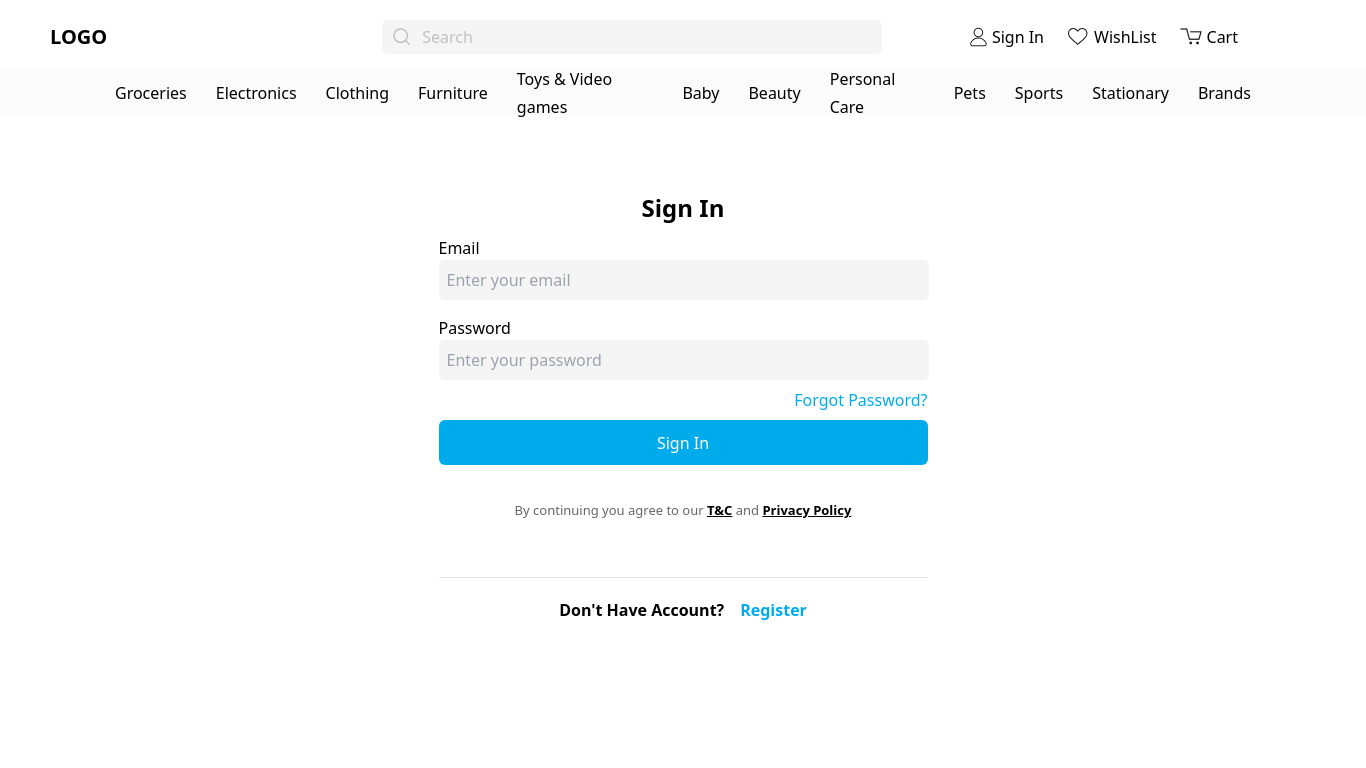
Authentication › should display error message when email format is invalid
Type "invalidemail" into the field with id "email". click: point(684, 280)
box: [439,260,929,300]
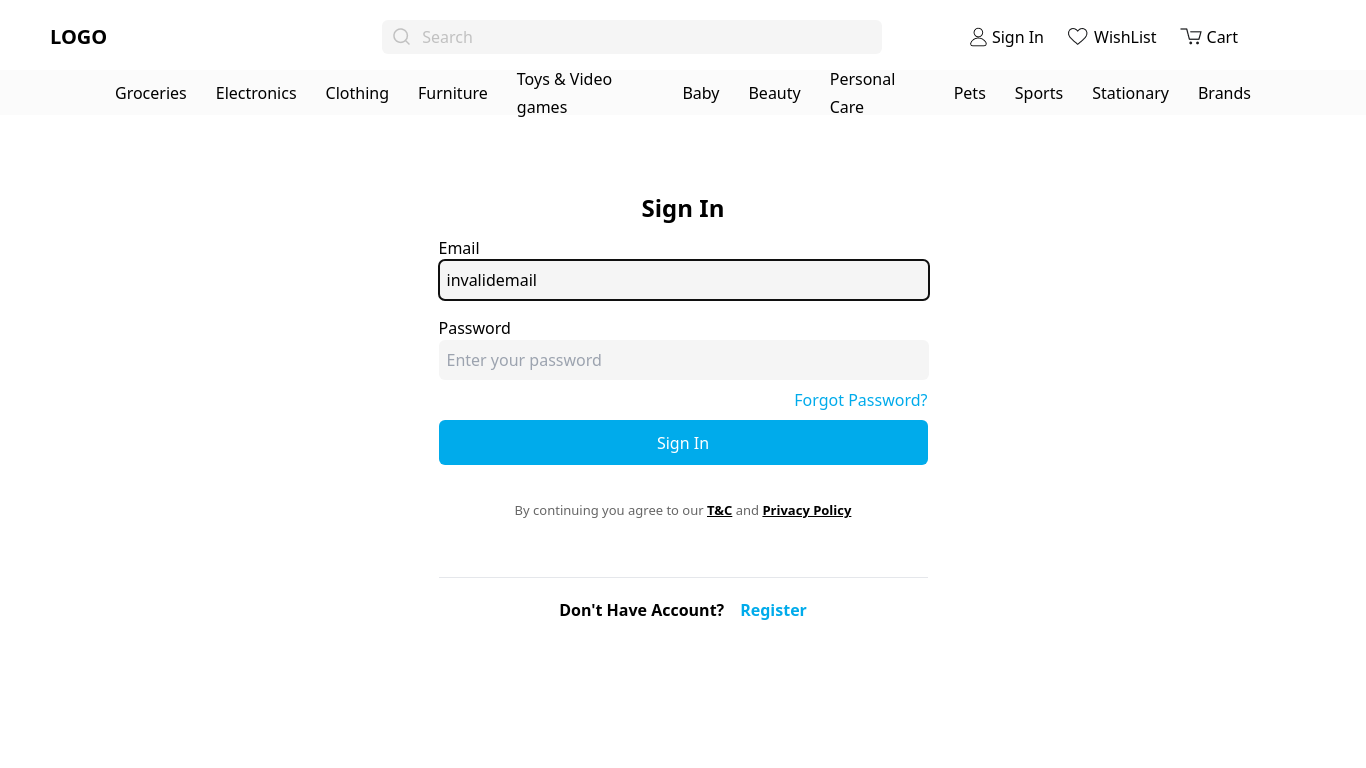
Type "password123" into the password field labelled "Password". click: point(684, 360)
box: [439,340,929,380]
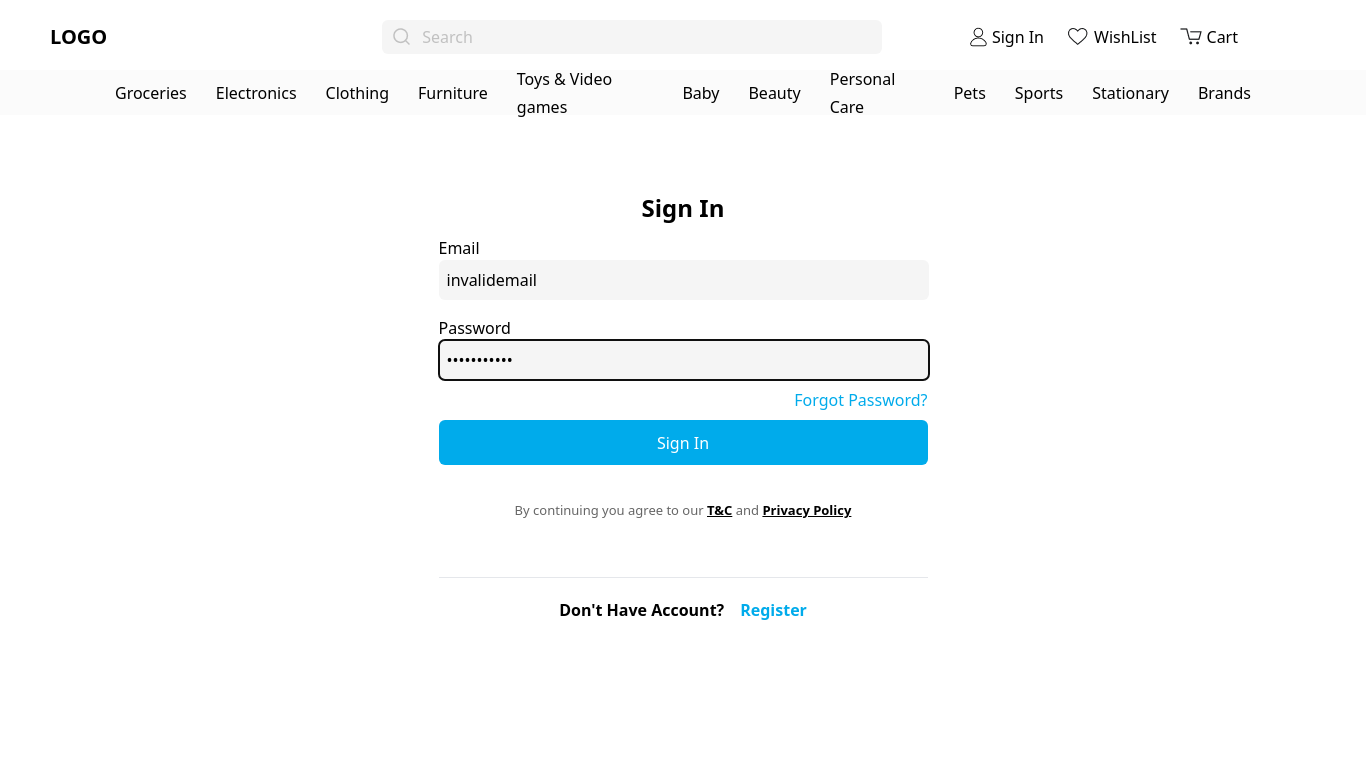
Click the button with id "sign-in-btn". click: point(684, 443)
box: [439,420,928,465]
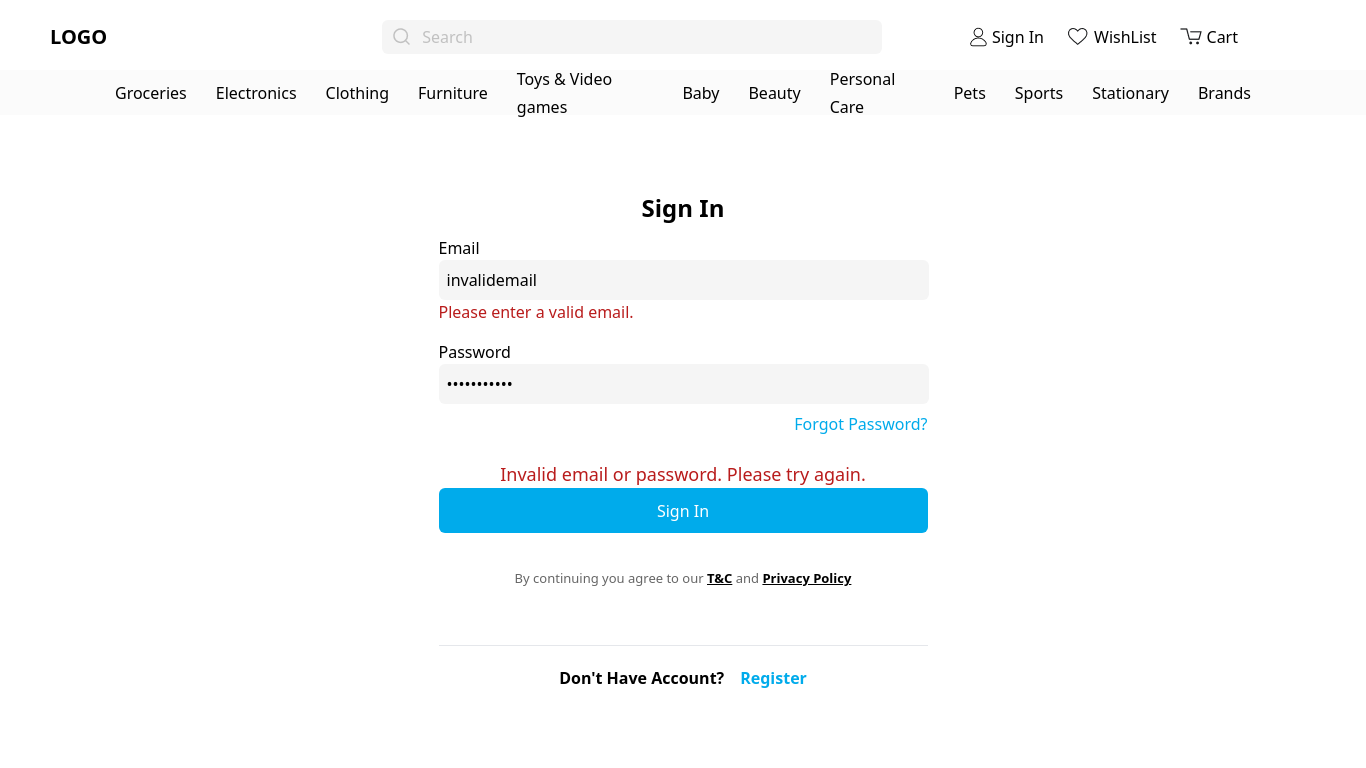
Expected: the text "Please enter a valid email." is shown, [438,301,634,323]
